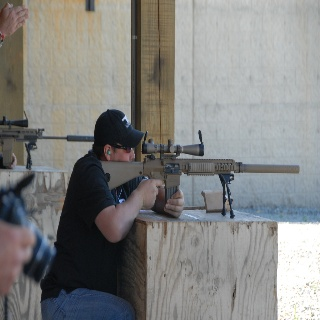rifle: (99, 129, 301, 219), (1, 110, 97, 171)
